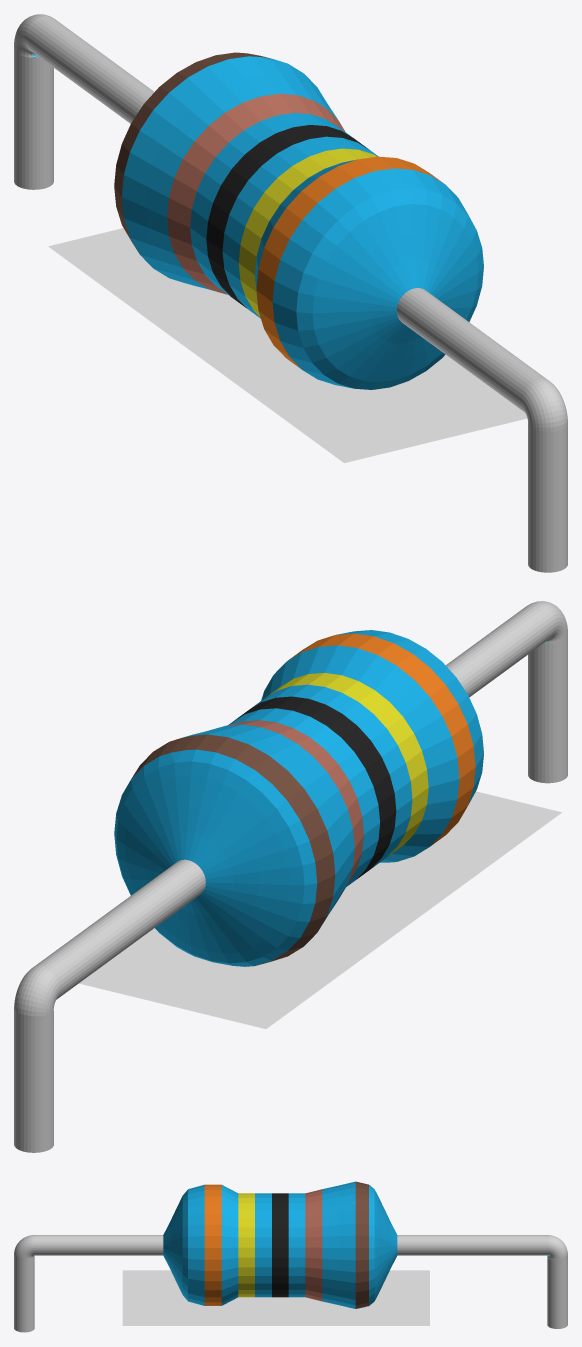
Rendered from R4_blue_1.gltf.
3 views of the same model, one above another, from view 1: azimuth 30°, elevation 25°; view 2: azimuth 150°, elevation 25°; view 3: azimuth 270°, elevation 25° (orthographic). The views are drawn at different scales.
Parts seen in each view (by area): view 1: R4_blue_1, R4_blue_1_plane; view 2: R4_blue_1, R4_blue_1_plane; view 3: R4_blue_1, R4_blue_1_plane.
Boxes of the visible parts, left/top/right/bottom form: R4_blue_1: left=14, top=14, right=567, bottom=572; R4_blue_1_plane: left=48, top=228, right=527, bottom=463; R4_blue_1: left=14, top=601, right=567, bottom=1152; R4_blue_1_plane: left=79, top=791, right=561, bottom=1028; R4_blue_1: left=14, top=1181, right=567, bottom=1332; R4_blue_1_plane: left=122, top=1270, right=429, bottom=1325.
Bounding box in the file's own units: 0.0161 × 0.0189 × 0.0676.
